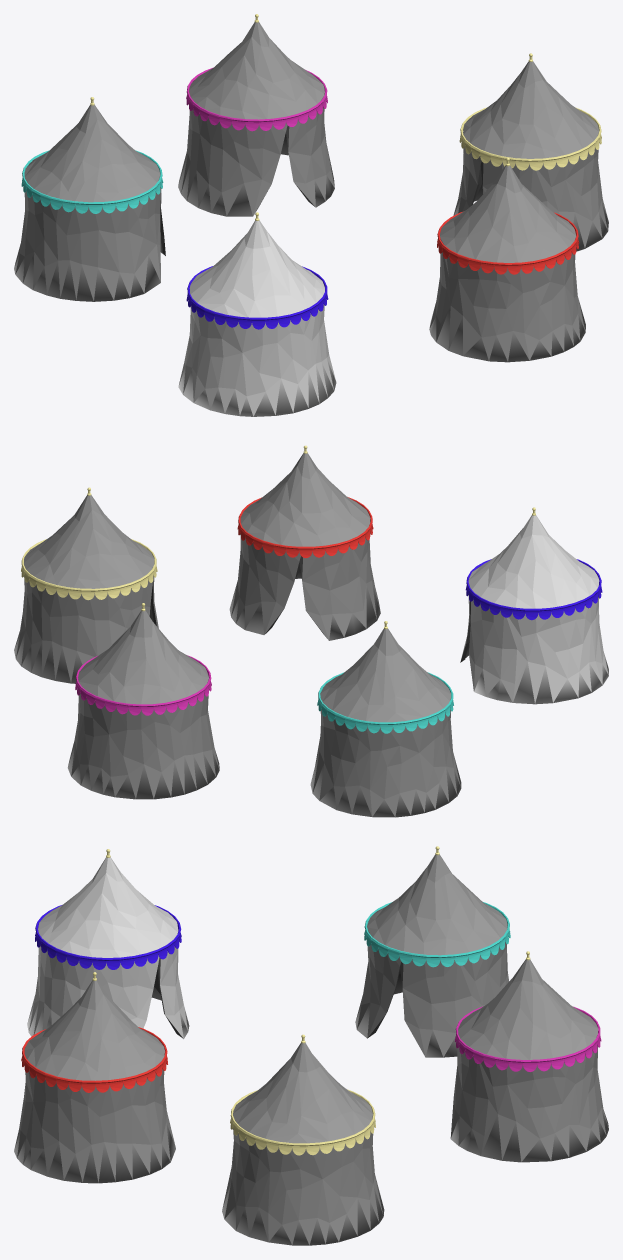
Rendered from tent_a.FBX.
3 renders of one model, top to bottom at view 1: azimuth 30°, elevation 25°; view 2: azimuth 150°, elevation 25°; view 3: azimuth 270°, elevation 25°, orthographic. The views are drawn at different scales.
Parts seen in each view (by area): view 1: tent_a.001, tent_a.009, tent_a.003, tent_a.005, tent_a.007, tent_a.002, tent_a.008, tent_a, tent_a.004, tent_a.006; view 2: tent_a.005, tent_a.003, tent_a.001, tent_a.009, tent_a.007, tent_a, tent_a.006, tent_a.002, tent_a.008, tent_a.004; view 3: tent_a.009, tent_a.007, tent_a.005, tent_a.003, tent_a.001, tent_a.002, tent_a.004, tent_a.006, tent_a.008, tent_a.
Part boxes in pixels (left/top/right/bottom): tent_a.001: left=178, top=220, right=336, bottom=416; tent_a.009: left=429, top=165, right=585, bottom=362; tent_a.003: left=14, top=105, right=165, bottom=301; tent_a.005: left=178, top=22, right=334, bottom=216; tent_a.007: left=453, top=61, right=608, bottom=251; tent_a.002: left=21, top=97, right=163, bottom=213; tent_a.008: left=437, top=157, right=579, bottom=274; tent_a: left=186, top=212, right=328, bottom=329; tent_a.004: left=186, top=14, right=327, bottom=131; tent_a.006: left=459, top=53, right=601, bottom=170; tent_a.005: left=67, top=610, right=219, bottom=799; tent_a.003: left=310, top=629, right=461, bottom=817; tent_a.001: left=460, top=515, right=608, bottom=704; tent_a.009: left=229, top=453, right=380, bottom=640; tent_a.007: left=14, top=495, right=158, bottom=683; tent_a: left=465, top=507, right=602, bottom=620; tent_a.006: left=21, top=487, right=157, bottom=600; tent_a.002: left=317, top=621, right=453, bottom=733; tent_a.008: left=237, top=445, right=373, bottom=558; tent_a.004: left=75, top=603, right=211, bottom=715; tent_a.009: left=14, top=980, right=175, bottom=1183; tent_a.007: left=222, top=1043, right=384, bottom=1245; tent_a.005: left=450, top=959, right=608, bottom=1162; tent_a.003: left=355, top=854, right=509, bottom=1057; tent_a.001: left=27, top=857, right=189, bottom=1038; tent_a.002: left=364, top=846, right=510, bottom=967; tent_a.004: left=455, top=951, right=601, bottom=1071; tent_a.006: left=230, top=1034, right=375, bottom=1155; tent_a.008: left=21, top=972, right=167, bottom=1092; tent_a: left=35, top=849, right=181, bottom=969.
Size of the model in its own units: 1457 by 469 by 1429.
